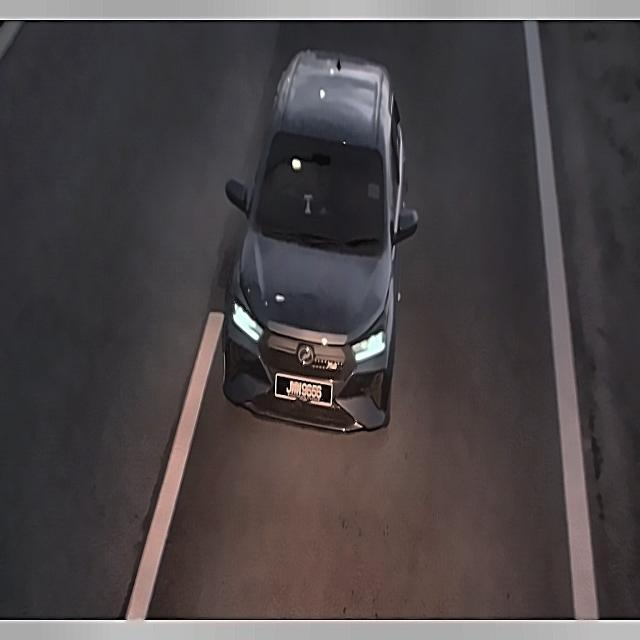car: (270, 368, 341, 410)
